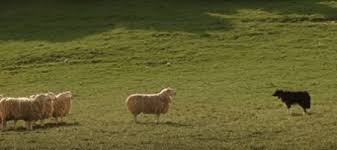sheep: (123, 87, 185, 121), (44, 96, 89, 127), (13, 97, 56, 127), (1, 92, 19, 119)
